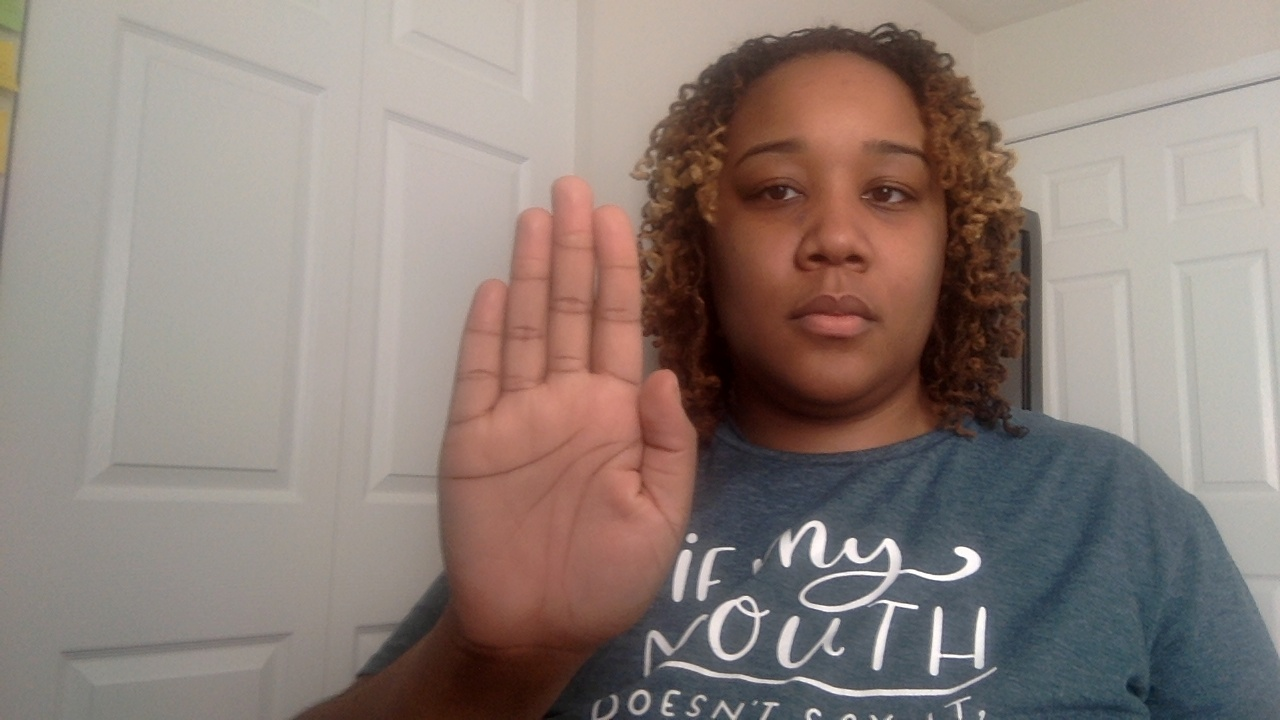hello: (420, 164, 697, 670)
